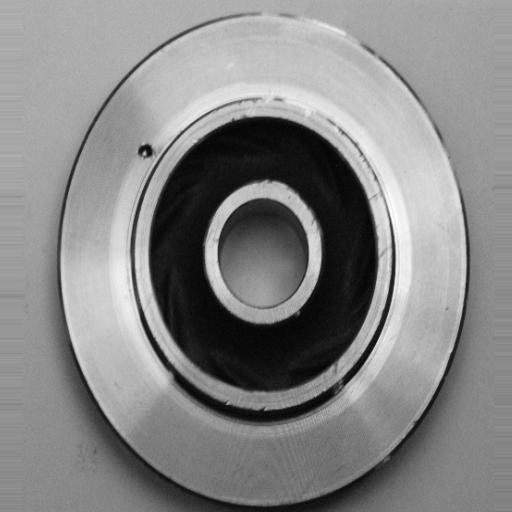pit: (130, 134, 162, 164)
scratch: (264, 4, 356, 48), (247, 84, 330, 120)
unpolished_casting: (54, 12, 469, 508)
